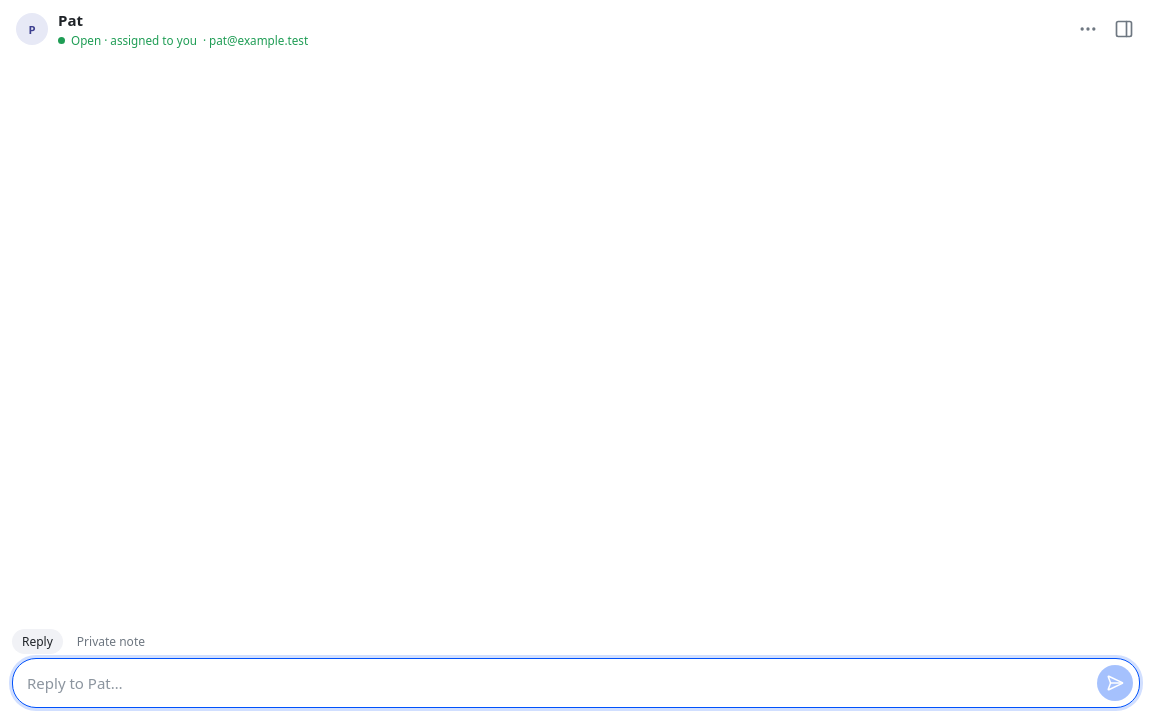
Test: ConversationView › puts resolve, transfer and block in the menu once it's mine
Click the button named "More actions" at (1088, 29), box [1072,13,1104,45]
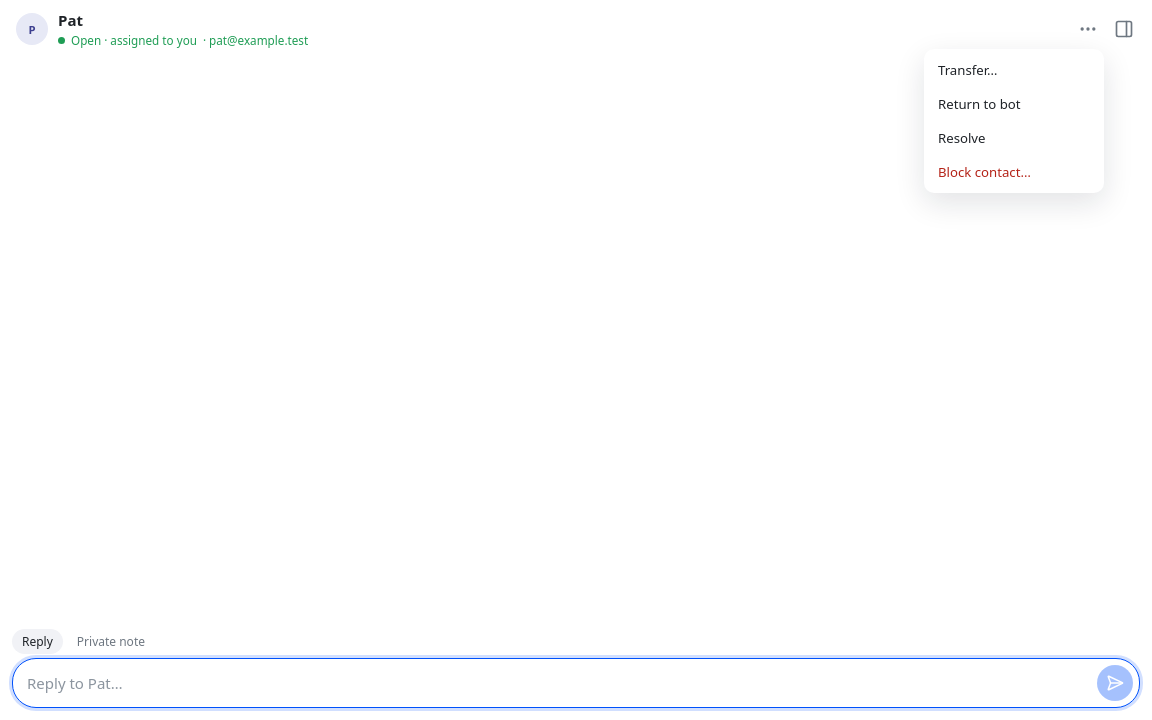
Now the menu item "Resolve" is shown, box [928,121,1100,155]
Now the menu item "Transfer…" is shown, box [928,53,1100,87]
Now the menu item "Return to bot" is shown, box [928,87,1100,121]
